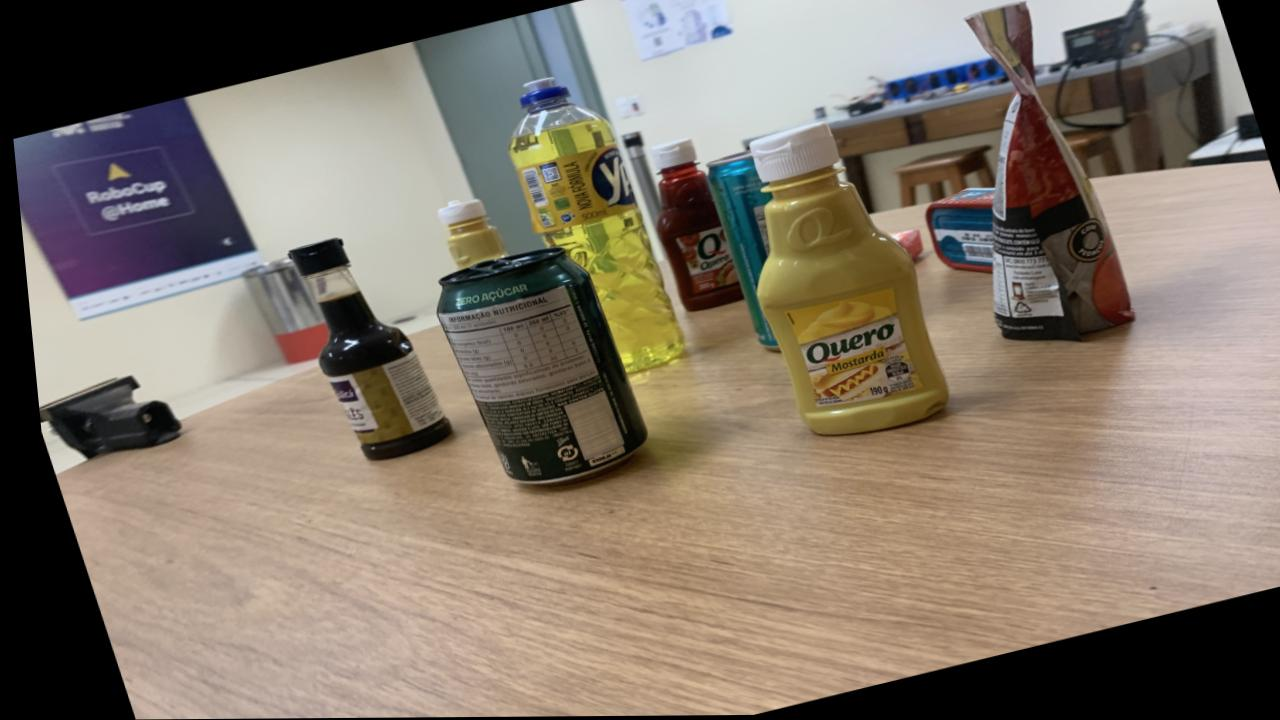Detergent-Cleanup_Items: (505, 79, 677, 372)
English_Sauce-Pantry_Items: (284, 238, 443, 460)
Guarana_Can-Drinks: (430, 247, 639, 485)
Ketchup-Pantry_Items: (648, 139, 737, 312), (648, 139, 737, 312)
Mustard-Pantry_Items: (747, 123, 941, 436), (433, 199, 502, 270)
Tea-Drinks: (703, 152, 770, 350)
Tomato_Sauce-Pantry_Items: (965, 5, 1128, 342)
Tuna_Can-Pantry_Items: (920, 188, 990, 273)
